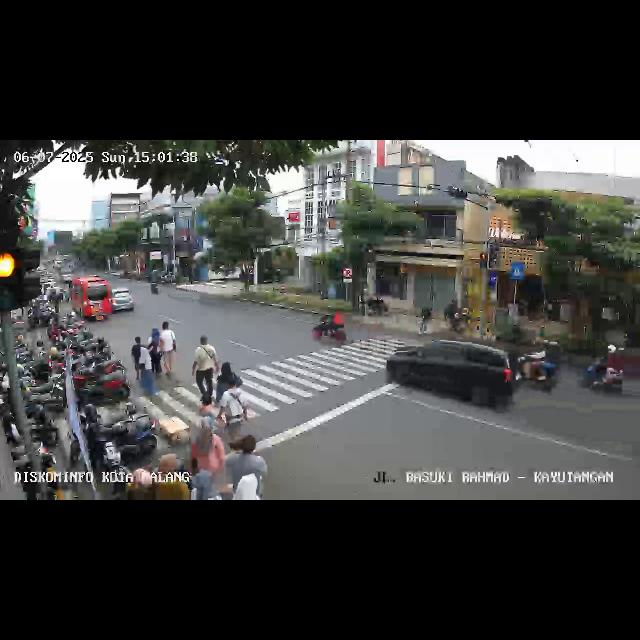car: (388, 339, 522, 413), (66, 277, 112, 323), (112, 290, 136, 314)
motorcycle: (512, 333, 560, 393), (581, 343, 625, 392), (312, 310, 348, 346), (149, 274, 161, 294)
person: (226, 430, 268, 494), (193, 336, 219, 410), (192, 415, 226, 471), (220, 378, 250, 438), (154, 452, 190, 500), (215, 359, 243, 407), (158, 322, 178, 388), (231, 470, 265, 500), (190, 470, 224, 500), (138, 348, 156, 402), (128, 333, 144, 385), (148, 327, 162, 378)
